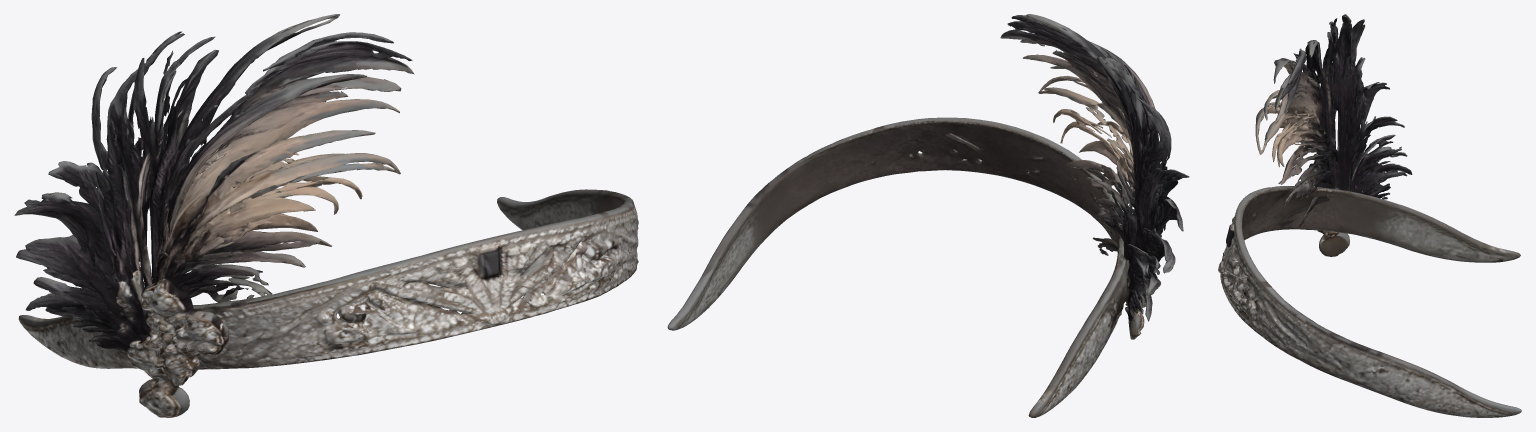
The model's file is jazz-feather.glb.
The picture shows the model from 3 angles, left to right: view 1: azimuth 30°, elevation 25°; view 2: azimuth 150°, elevation 25°; view 3: azimuth 270°, elevation 25°; orthographic projection. The views are drawn at different scales.
Parts seen in each view (by area): view 1: tripo_node_6d3f78e3-51f7-413f-a3bb-2475a6959f01; view 2: tripo_node_6d3f78e3-51f7-413f-a3bb-2475a6959f01; view 3: tripo_node_6d3f78e3-51f7-413f-a3bb-2475a6959f01.
Part boxes in pixels (x1,y1,x2,y2): tripo_node_6d3f78e3-51f7-413f-a3bb-2475a6959f01: [14, 14, 638, 417]; tripo_node_6d3f78e3-51f7-413f-a3bb-2475a6959f01: [667, 14, 1189, 417]; tripo_node_6d3f78e3-51f7-413f-a3bb-2475a6959f01: [1218, 14, 1521, 417].
Size of the model in its own units: 1.74 by 1.1 by 1.16.
1 material, 1 textured.
